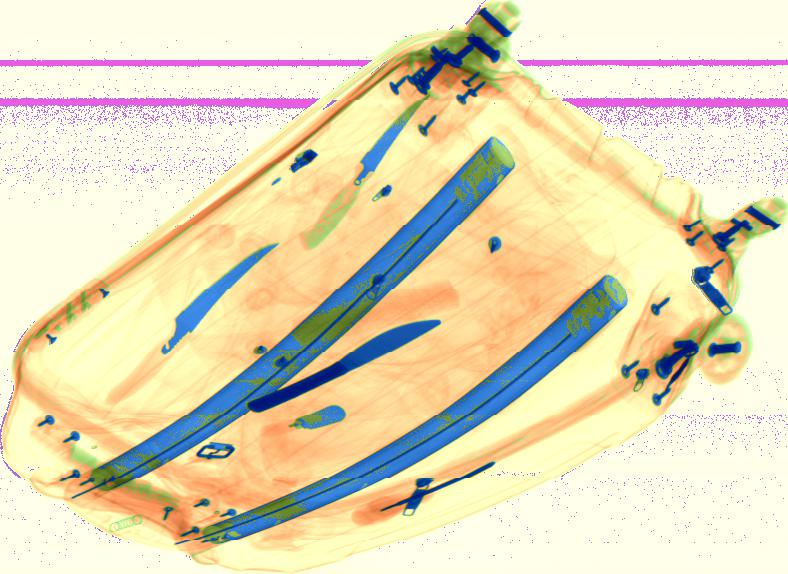Knife: (100, 240, 282, 405), (297, 94, 430, 251), (245, 319, 442, 413)
